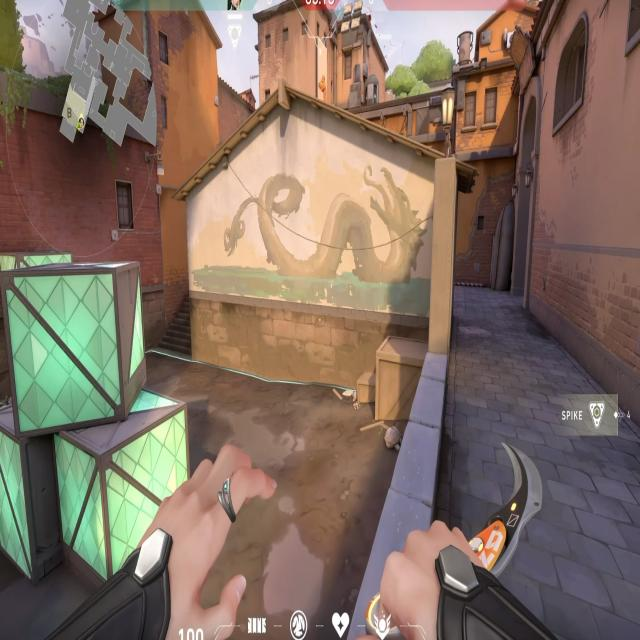B_Site_Box: (1, 258, 191, 602)
Throwables: (550, 8, 594, 138)
